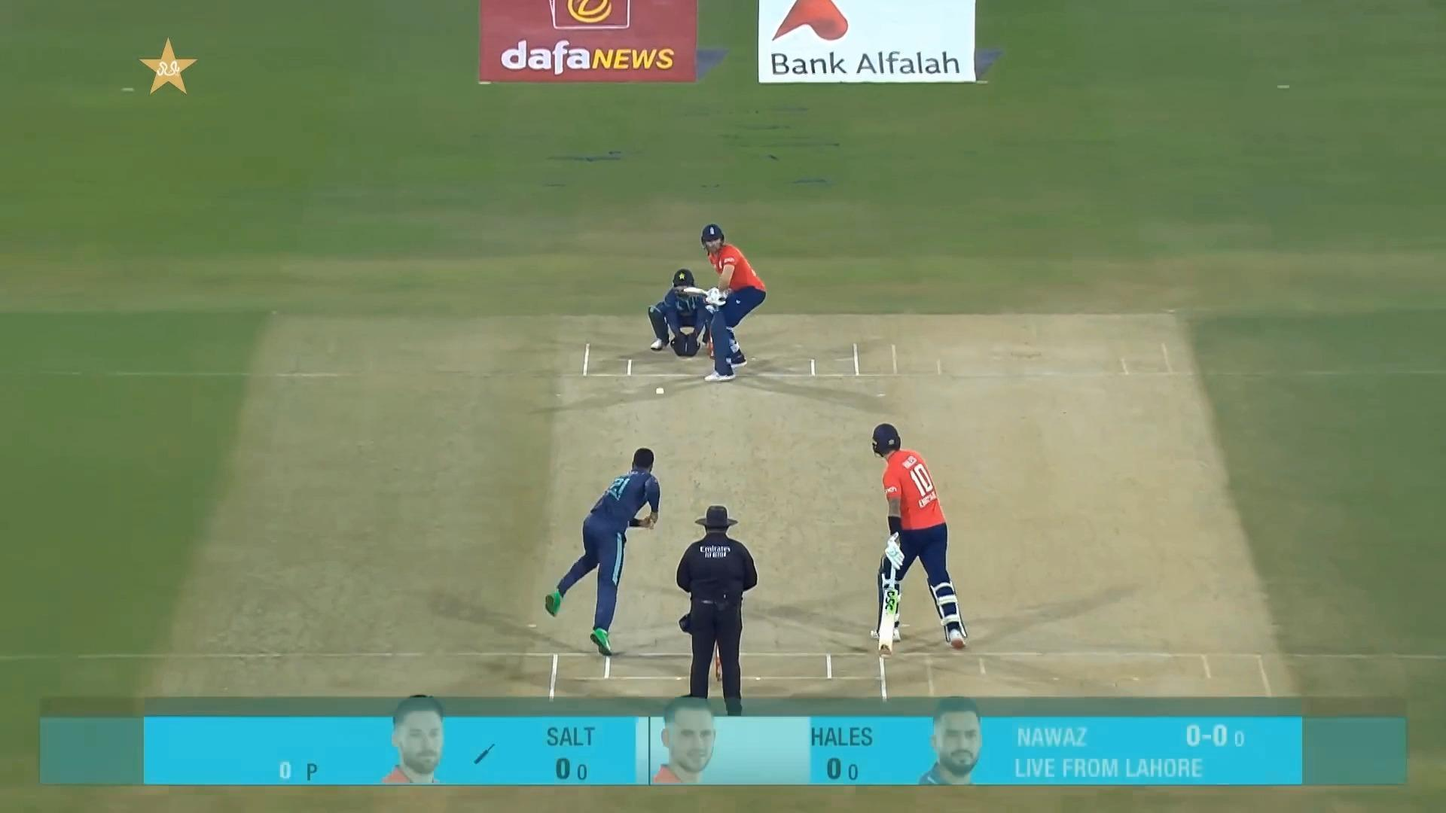BM 1: (680, 222, 767, 382)
BO: (545, 446, 661, 656)
